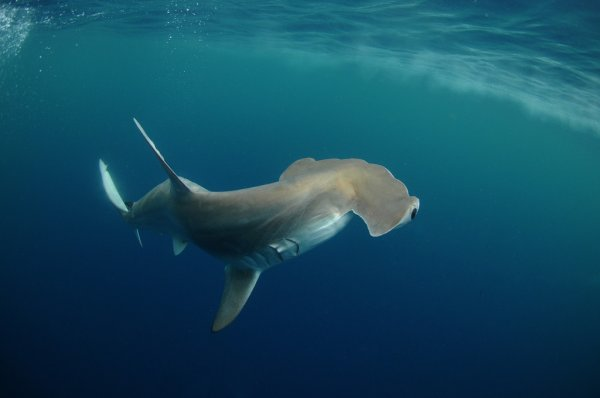Hammer: (134, 199, 278, 286)
